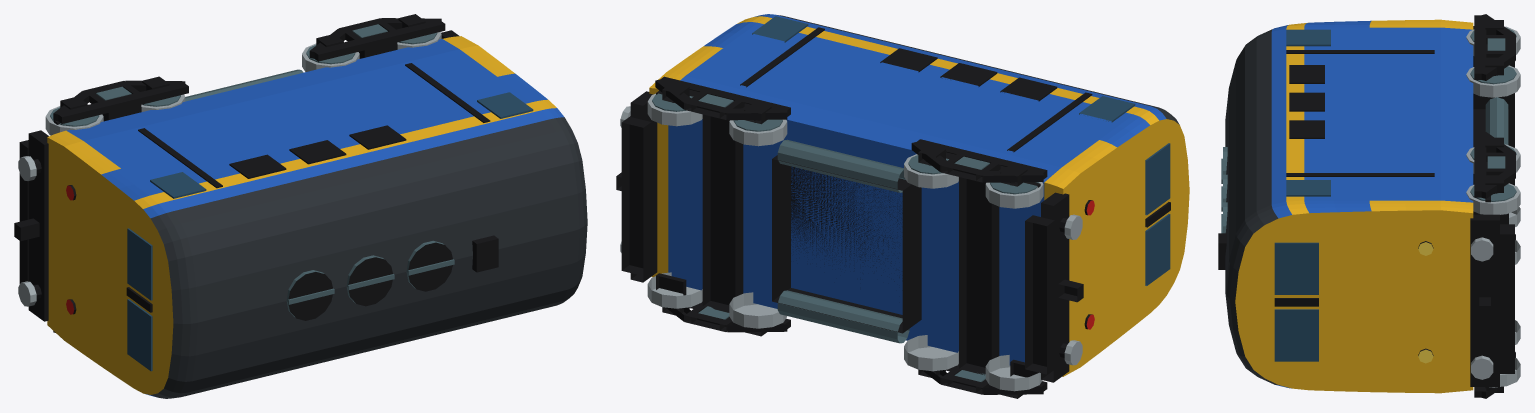
The picture shows the model from 3 angles, left to right: view 1: azimuth 30°, elevation 25°; view 2: azimuth 150°, elevation 25°; view 3: azimuth 270°, elevation 25°; orthographic projection. The views are drawn at different scales.
Parts seen in each view (by area): view 1: default_body, default_bogie1, default_bogie-1, default_beam-1, default_fan1, default_fan2, default_fan0, default_screen-10.62, default_screen-1-0.62, default_buffers-1, default_plough-1, default_side1_2.70_3.85_glass_dark (+8 smaller); view 2: default_body, default_bogie1, default_bogie-1, default_tank, default_plough1, default_plough-1, default_air_tank-1, default_air_tank1, default_beam-1, default_beam1, default_screen-10.62, default_screen-1-0.62 (+8 smaller); view 3: default_body, default_bogie1, default_beam1, default_bogie-1, default_screen1-0.62, default_screen10.62, default_plough1, default_buffers1, default_air_tank1, default_side1_-3.30_3.85_glass_dark, default_side1_2.70_3.85_glass_dark, default_side1_-0.80_3.95_black (+8 smaller).
Boxes of the visible parts, <box> form: default_body: <box>47,36,587,398</box>; default_bogie1: <box>302,14,445,71</box>; default_bogie-1: <box>45,76,188,332</box>; default_beam-1: <box>28,130,48,321</box>; default_fan1: <box>346,255,392,306</box>; default_fan2: <box>406,240,452,291</box>; default_fan0: <box>286,270,332,320</box>; default_screen-10.62: <box>127,228,152,300</box>; default_screen-1-0.62: <box>127,299,152,371</box>; default_buffers-1: <box>14,156,41,306</box>; default_plough-1: <box>19,140,28,283</box>; default_side1_2.70_3.85_glass_dark: <box>477,92,533,118</box>; default_body: <box>649,14,1189,376</box>; default_bogie1: <box>647,76,790,336</box>; default_bogie-1: <box>904,139,1047,398</box>; default_tank: <box>772,155,921,333</box>; default_plough1: <box>621,117,651,275</box>; default_plough-1: <box>1025,215,1054,374</box>; default_air_tank-1: <box>777,290,909,343</box>; default_air_tank1: <box>777,139,905,192</box>; default_beam-1: <box>1041,192,1069,382</box>; default_beam1: <box>630,91,657,282</box>; default_screen-10.62: <box>1145,143,1170,215</box>; default_screen-1-0.62: <box>1145,214,1170,285</box>; default_body: <box>1225,19,1473,393</box>; default_bogie1: <box>1466,132,1520,398</box>; default_beam1: <box>1470,214,1499,386</box>; default_bogie-1: <box>1466,14,1520,264</box>; default_screen1-0.62: <box>1274,309,1318,361</box>; default_screen10.62: <box>1274,242,1318,294</box>; default_plough1: <box>1500,224,1514,373</box>; default_buffers1: <box>1471,237,1493,379</box>; default_air_tank1: <box>1485,97,1508,144</box>; default_side1_-3.30_3.85_glass_dark: <box>1286,29,1330,46</box>; default_side1_2.70_3.85_glass_dark: <box>1286,180,1330,196</box>; default_side1_-0.80_3.95_black: <box>1289,92,1324,111</box>.
Size of the model in its own units: 8.46 by 3.9 by 5.1.
